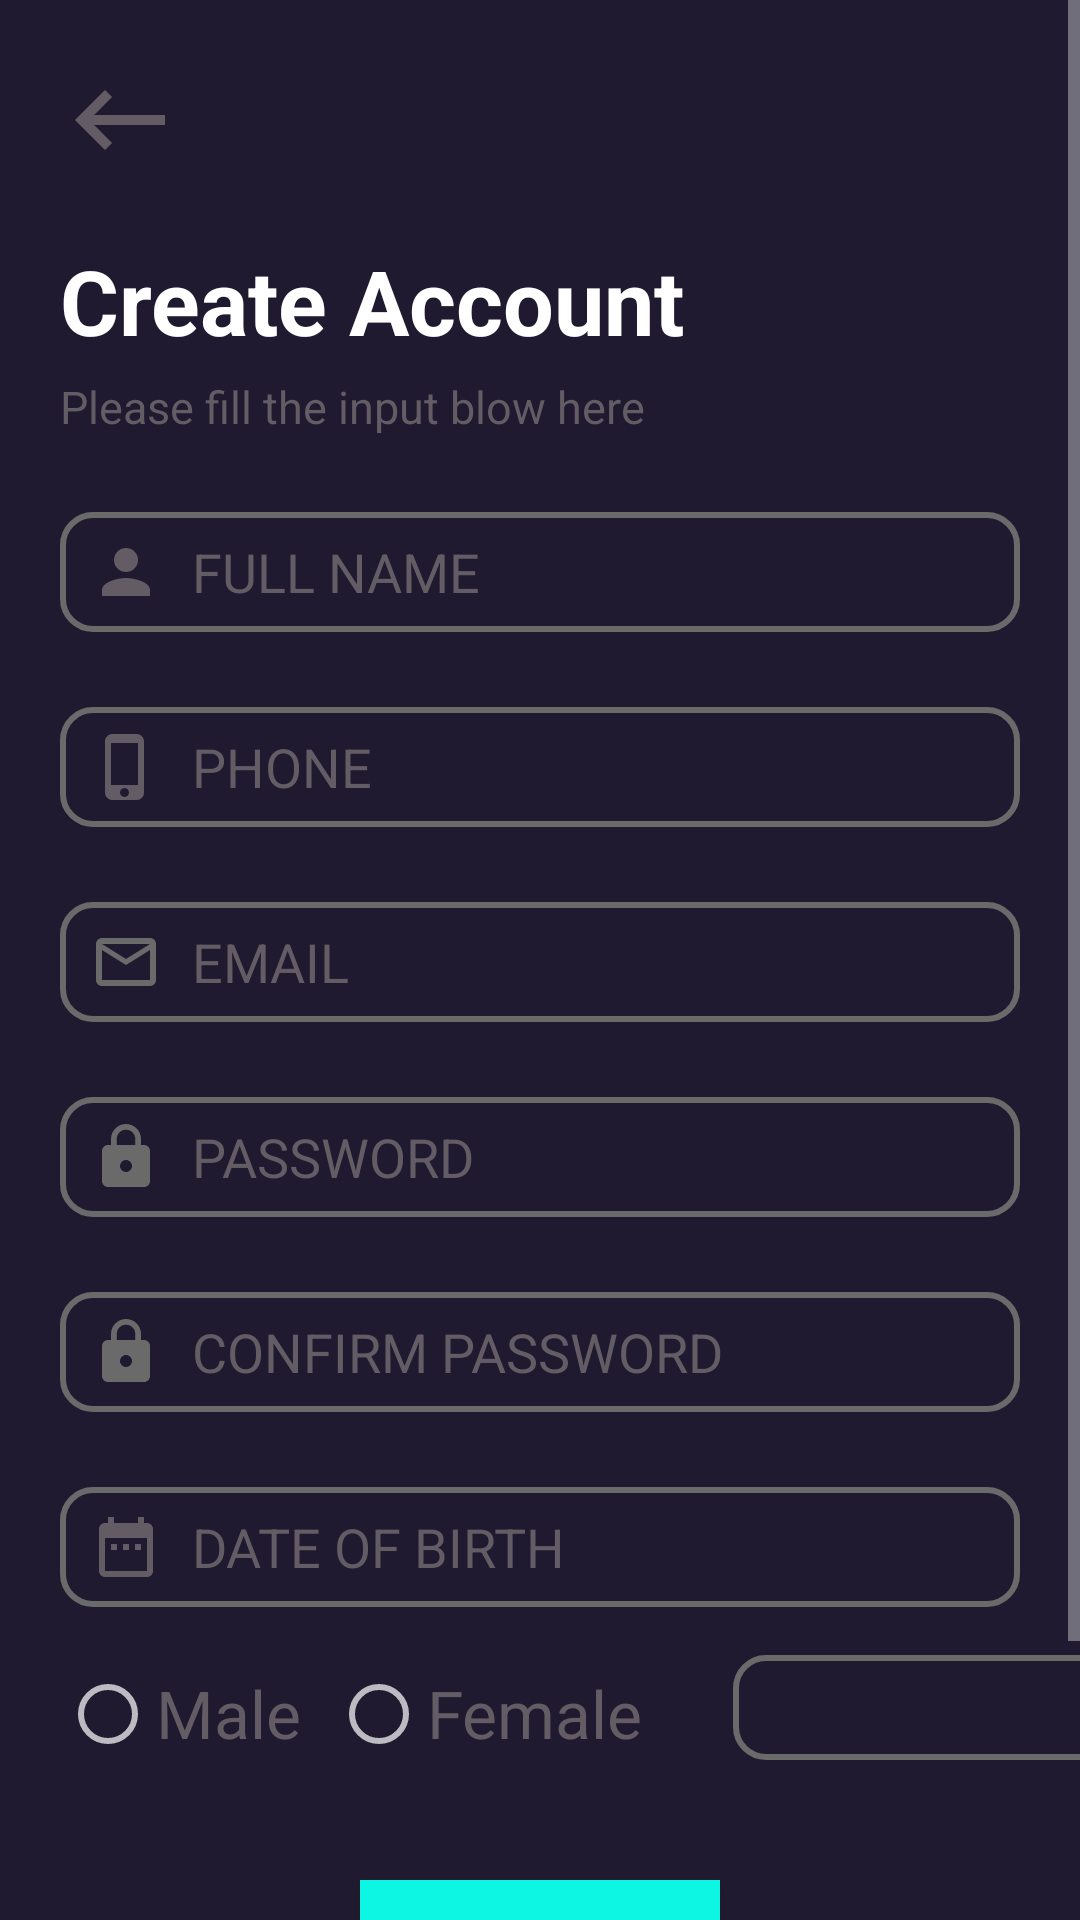

Icon bounding boxes for this 1080 × 1920 phone screenshot, format (x1, y1, x2, y2):
keyboard backspace: (75, 90, 165, 150)
